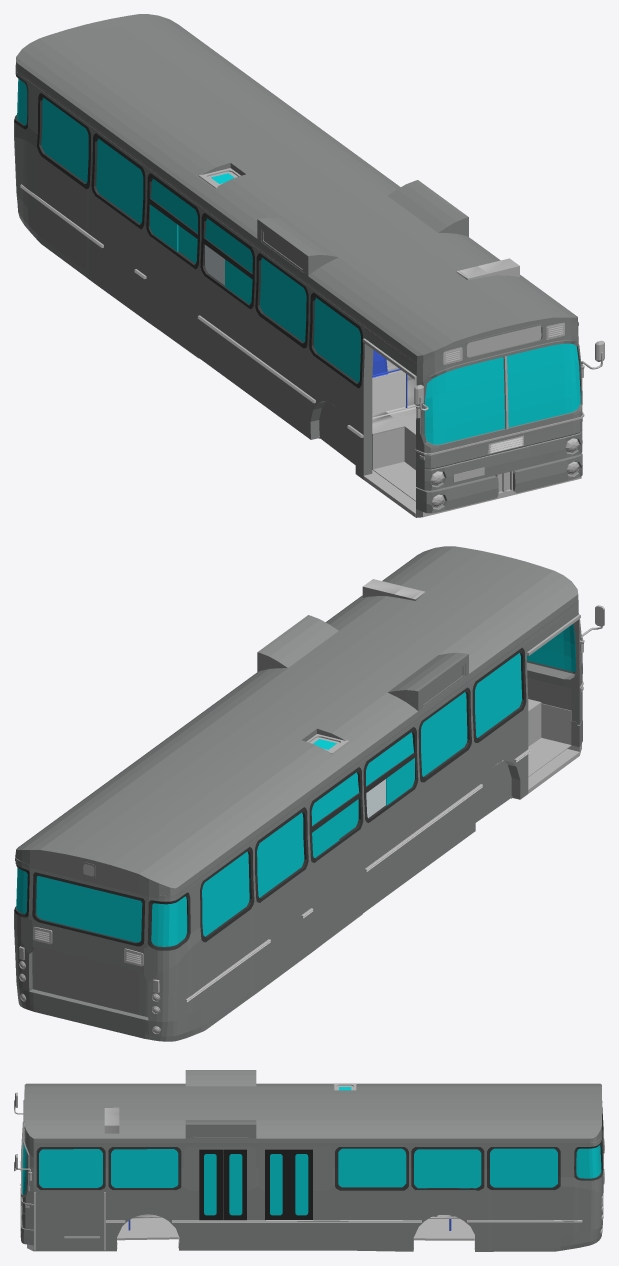
The model's file is mio 1.fbx.
The picture shows the model from 3 angles, top to bottom: view 1: azimuth 30°, elevation 25°; view 2: azimuth 150°, elevation 25°; view 3: azimuth 270°, elevation 25°; orthographic projection. The views are drawn at different scales.
Visible parts, largest first — view 1: Autobus, FrameElements(no edge split).005, FrameElements(no edge split), Cilindro.012, FrameElements(no edge split).001, FrameElements(no edge split).004; view 2: Autobus, FrameElements(no edge split).005, FrameElements(no edge split), FrameElements(no edge split).004, FrameElements(no edge split).001; view 3: Autobus, FrameElements(no edge split).005, FrameElements(no edge split), Door3.006, Door3.005, Door3.002, Door3.004, Door3.010, Door3.008, Door3.009, Door3.011.
Part boxes in pixels (<box>): Autobus: <box>14,14,582,513</box>; FrameElements(no edge split).005: <box>17,78,580,444</box>; FrameElements(no edge split): <box>20,184,604,517</box>; Cilindro.012: <box>372,369,407,414</box>; FrameElements(no edge split).001: <box>150,204,178,251</box>; FrameElements(no edge split).004: <box>225,259,252,304</box>; Autobus: <box>14,546,582,1041</box>; FrameElements(no edge split).005: <box>16,624,576,946</box>; FrameElements(no edge split): <box>19,579,604,1033</box>; FrameElements(no edge split).004: <box>386,758,414,805</box>; FrameElements(no edge split).001: <box>312,813,339,857</box>; Autobus: <box>20,1070,603,1251</box>; FrameElements(no edge split).005: <box>22,1143,601,1194</box>; FrameElements(no edge split): <box>14,1090,604,1251</box>; Door3.006: <box>199,1149,222,1220</box>; Door3.005: <box>223,1149,246,1220</box>; Door3.002: <box>265,1149,288,1220</box>; Door3.004: <box>289,1149,312,1219</box>; Door3.010: <box>229,1154,242,1215</box>; Door3.008: <box>295,1154,308,1215</box>; Door3.009: <box>270,1154,282,1215</box>; Door3.011: <box>204,1154,216,1215</box>.
Size of the model in its own units: 343 by 332 by 1329.
